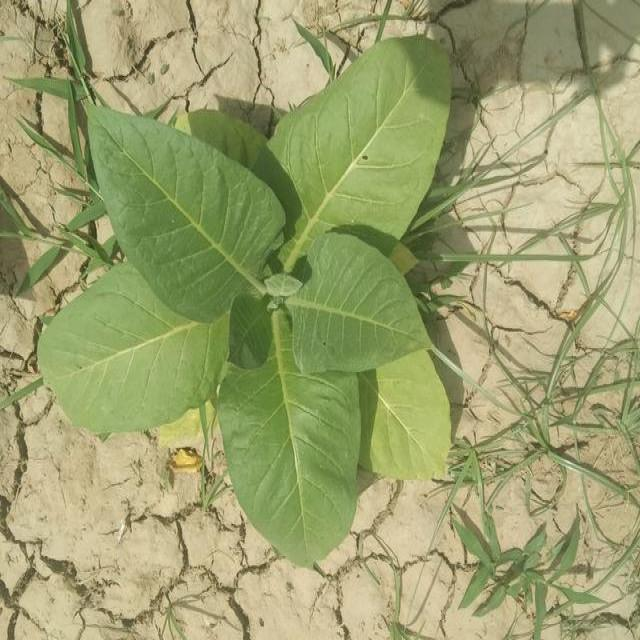crop: (43, 37, 454, 563)
